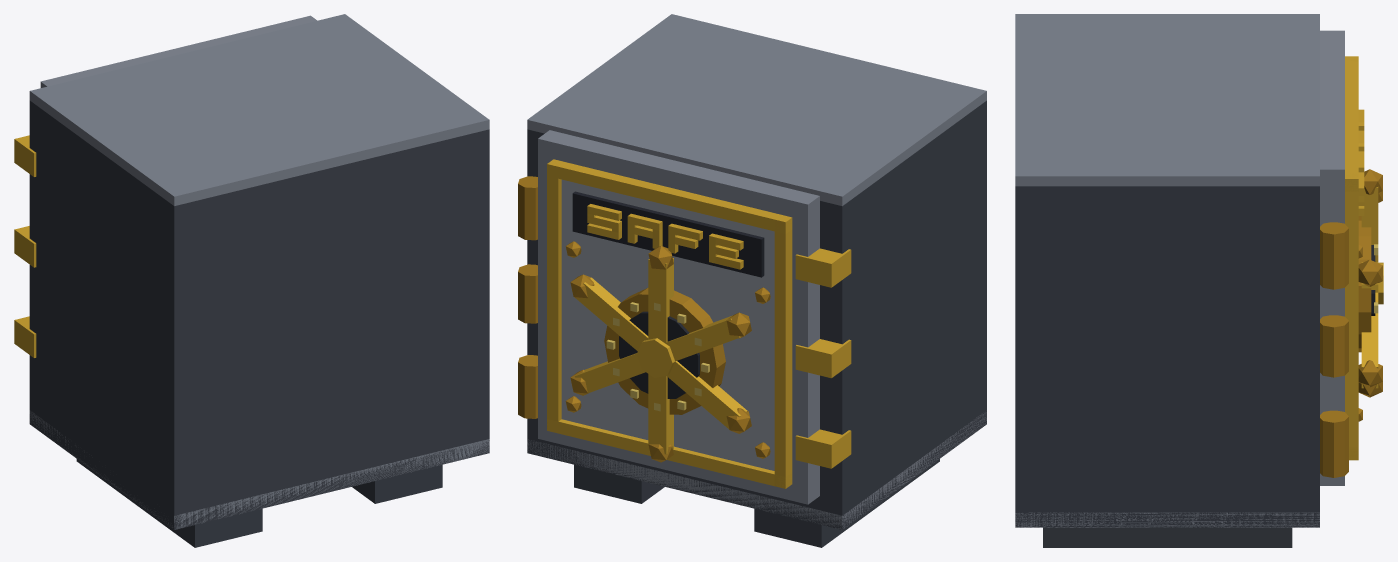
The model's file is Decor_GoldVault_Safe.fbx.
3 views of the same model, side by side, from view 1: azimuth 30°, elevation 25°; view 2: azimuth 150°, elevation 25°; view 3: azimuth 270°, elevation 25° (orthographic). The views are drawn at different scales.
Parts seen in each view (by area): view 1: Safe_Body; view 2: Safe_Body; view 3: Safe_Body.
Part boxes in pixels (x1,y1,x2,y2): Safe_Body: [14, 14, 489, 547]; Safe_Body: [518, 14, 986, 547]; Safe_Body: [1015, 14, 1383, 547].
Bounding box in the file's own units: 14 × 15.5 × 13.3.
